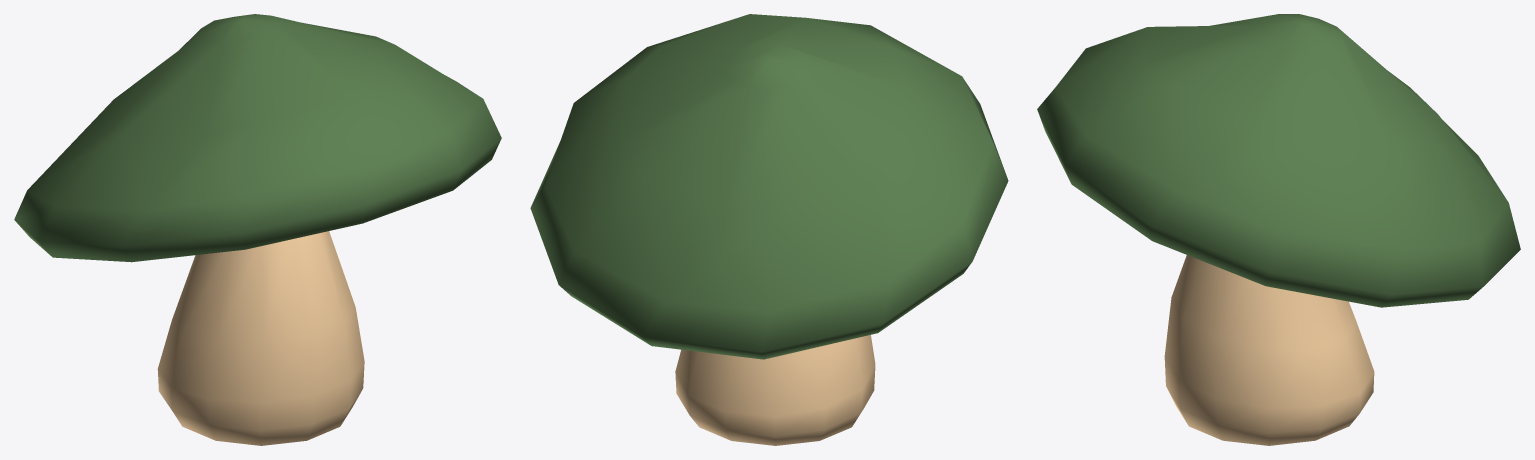
File: Mushroom_04_merged_UV.fbx
The picture shows the model from 3 angles, left to right: view 1: azimuth 30°, elevation 25°; view 2: azimuth 150°, elevation 25°; view 3: azimuth 270°, elevation 25°; orthographic projection. The views are drawn at different scales.
Visible parts, largest first — view 1: Mushroom_04_merged_UV; view 2: Mushroom_04_merged_UV; view 3: Mushroom_04_merged_UV.
Boxes of the visible parts, left/top/right/bottom form: Mushroom_04_merged_UV: left=14, top=14, right=501, bottom=445; Mushroom_04_merged_UV: left=530, top=14, right=1008, bottom=445; Mushroom_04_merged_UV: left=1037, top=14, right=1520, bottom=445.
Bounding box in the file's own units: 179 × 172 × 155.
